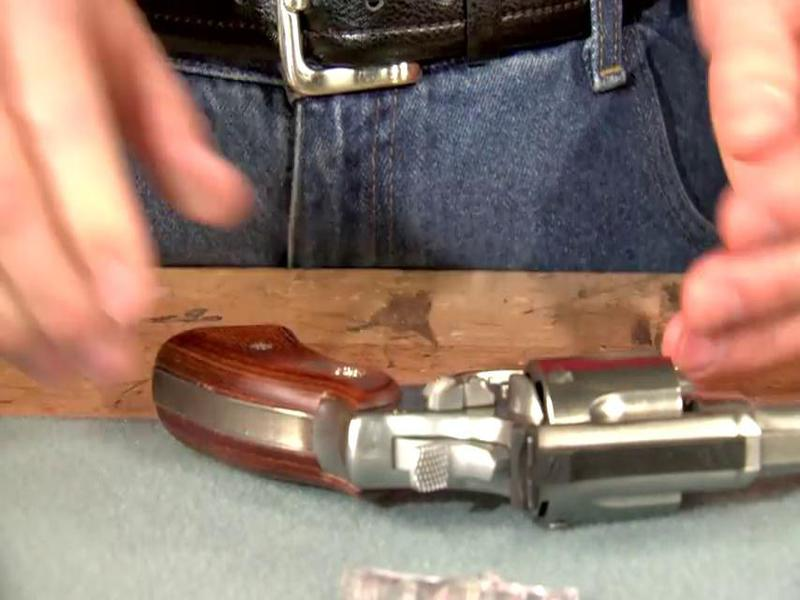Revolver: (110, 274, 800, 577)
